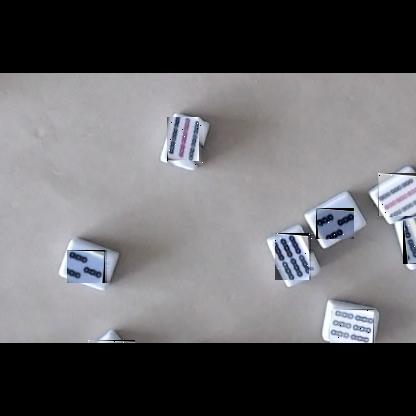3s: (68, 250, 110, 283), (316, 208, 354, 239)
6s: (276, 233, 314, 280), (330, 309, 374, 343), (403, 218, 416, 264)
8s: (88, 340, 135, 343)
9s: (168, 118, 204, 166), (378, 173, 416, 216)
